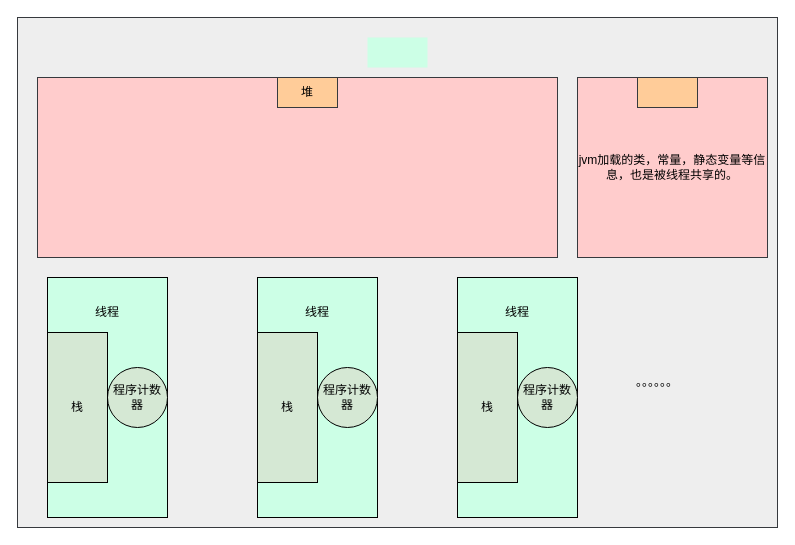
This 795x545 diagram has some shape labels left out. The shapes that lost their labels are listed below. From the top down, each one's box as (x1, y1, x2, y2) in pixels, then its label:
(367, 37, 427, 67): JVM进程
(636, 76, 698, 108): 方法区
(36, 76, 558, 258): 进程中最大的一块数据，jvm启动的时候分配，主要存放使用new创建的实例，所有线程共享
